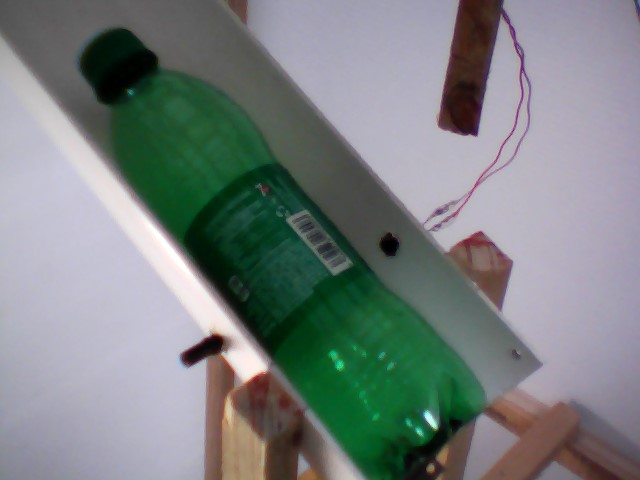plastico: (75, 23, 503, 479)
